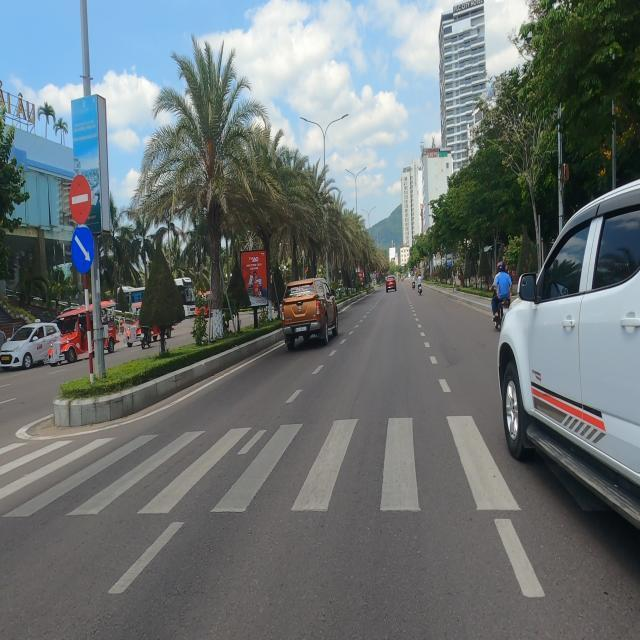walk-crossing: (5, 413, 534, 522)
